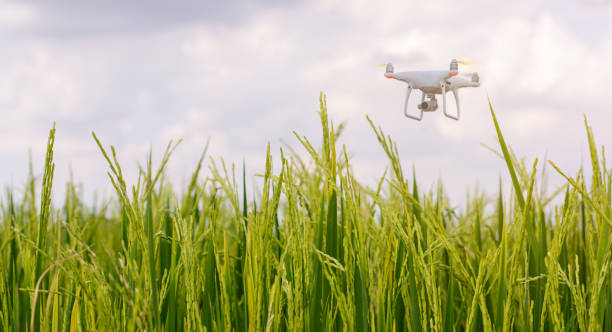Drone: (369, 52, 491, 126)
